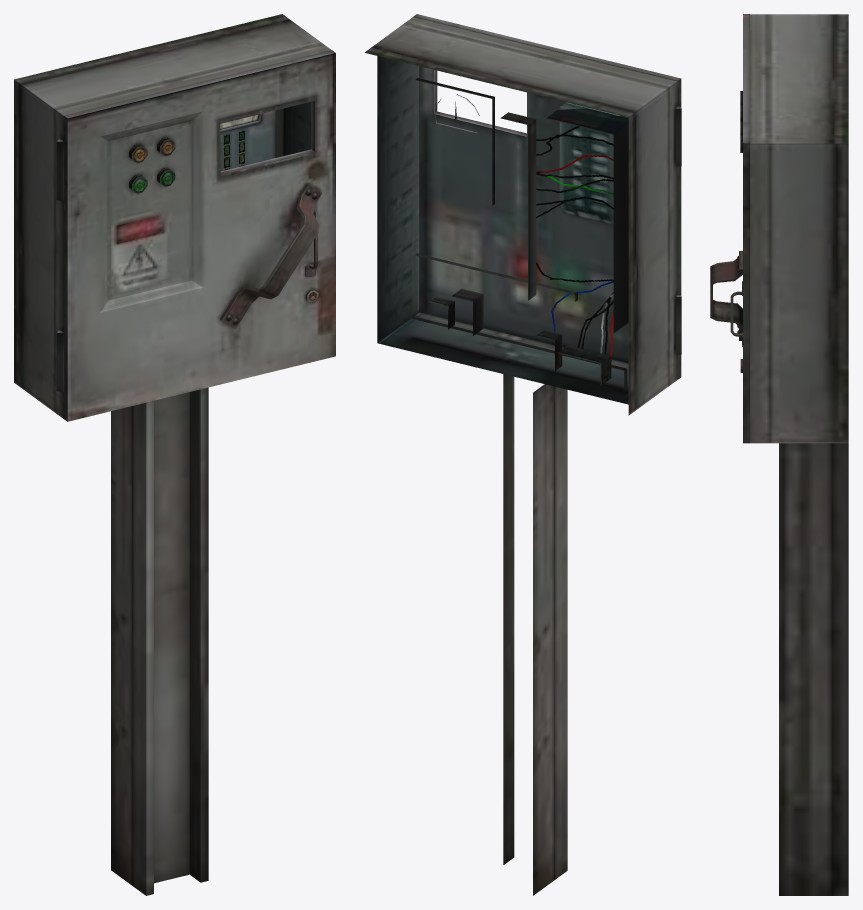
The model's file is powerbox.glb.
3 views of the same model, side by side, from view 1: azimuth 30°, elevation 25°; view 2: azimuth 150°, elevation 25°; view 3: azimuth 270°, elevation 25° (orthographic).
Visible parts, largest first — view 1: 0_PowerBox_sheet, 2_powerbox_bars; view 2: 0_PowerBox_sheet, 1_powerbox_wires; view 3: 0_PowerBox_sheet.
Boxes of the visible parts, x1=… form: 0_PowerBox_sheet: x1=14, y1=14, x2=335, y2=895; 2_powerbox_bars: x1=222, y1=129, x2=245, y2=170; 0_PowerBox_sheet: x1=364, y1=14, x2=681, y2=895; 1_powerbox_wires: x1=536, y1=126, x2=613, y2=361; 0_PowerBox_sheet: x1=710, y1=14, x2=848, y2=895.
Size of the model in its own units: 0.5989 by 1.7 by 0.265.
Materials: 3 (3 with a texture image).
